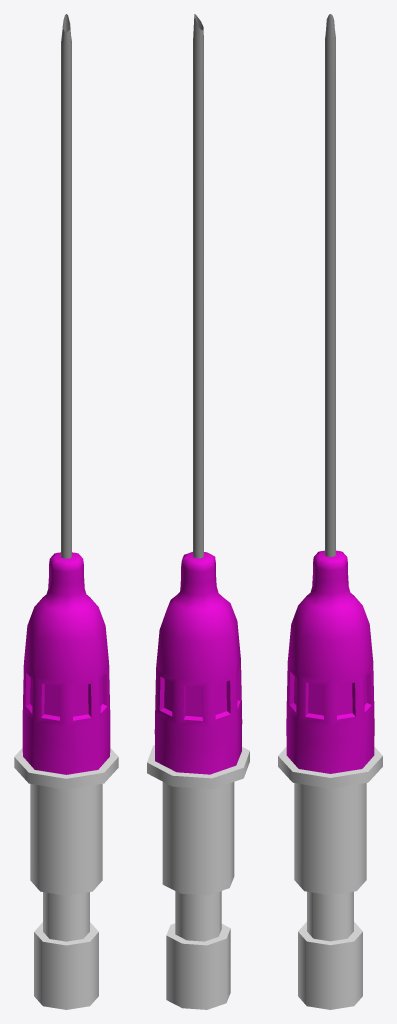
File: SM_Abbocath del 20.fbx
3 views of the same model, side by side, from view 1: azimuth 90°, elevation 25°; view 2: azimuth 150°, elevation 25°; view 3: azimuth 270°, elevation 25° (orthographic).
Parts seen in each view (by area): view 1: Cube.002, Cube.001, NurbsPath.001; view 2: Cube.002, Cube.001, NurbsPath.001; view 3: Cube.002, Cube.001, NurbsPath.001.
Part boxes in pixels (left/top/right/bottom): Cube.002: left=14, top=748, right=118, bottom=1009; Cube.001: left=22, top=552, right=110, bottom=774; NurbsPath.001: left=61, top=14, right=71, bottom=558; Cube.002: left=147, top=745, right=249, bottom=1009; Cube.001: left=154, top=552, right=242, bottom=774; NurbsPath.001: left=193, top=14, right=203, bottom=558; Cube.002: left=278, top=747, right=382, bottom=1009; Cube.001: left=286, top=550, right=374, bottom=773; NurbsPath.001: left=325, top=14, right=335, bottom=556.
Size of the model in its own units: 1.7 by 17.6 by 1.7.
